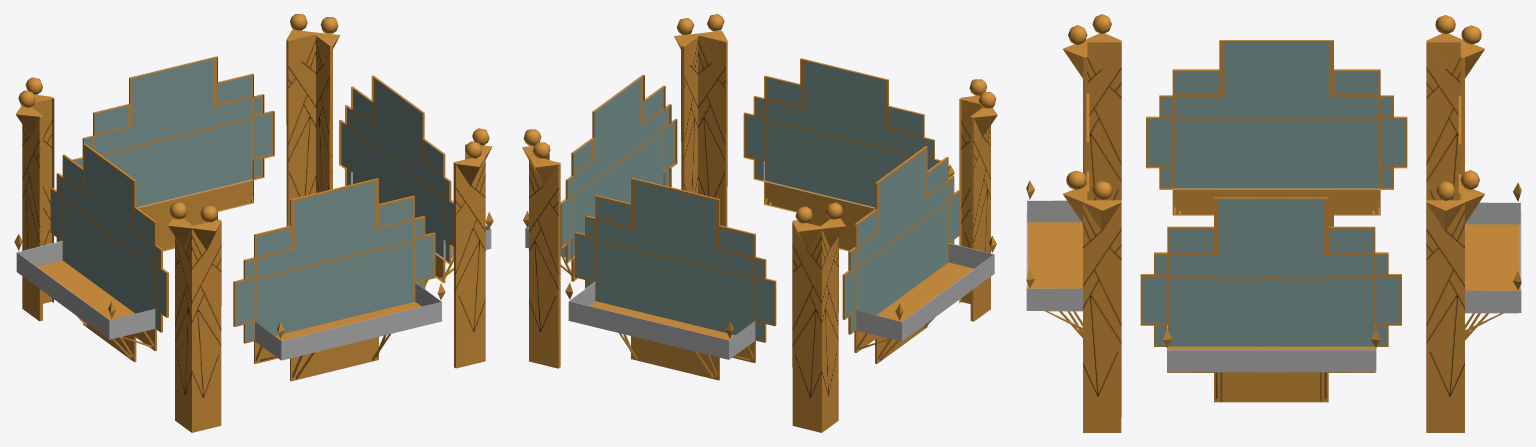
File: ModularBuilding_one.fbx
3 views of the same model, side by side, from view 1: azimuth 30°, elevation 25°; view 2: azimuth 150°, elevation 25°; view 3: azimuth 270°, elevation 25° (orthographic). The views are drawn at different scales.
Parts seen in each view (by area): view 1: ModularBuilding_one; view 2: ModularBuilding_one; view 3: ModularBuilding_one.
Boxes of the visible parts, left/top/right/bottom form: ModularBuilding_one: left=14, top=14, right=493, bottom=432; ModularBuilding_one: left=522, top=14, right=997, bottom=432; ModularBuilding_one: left=1026, top=14, right=1521, bottom=432.
Size of the model in its own units: 2849 by 1609 by 2849.
